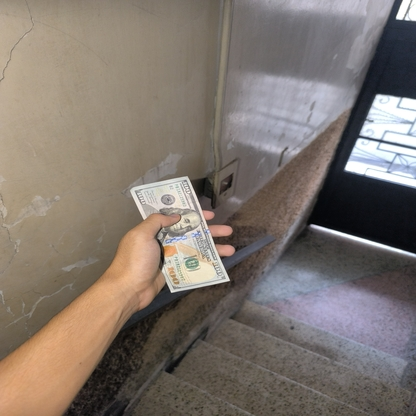one_hundred-front: (119, 179, 234, 293)
